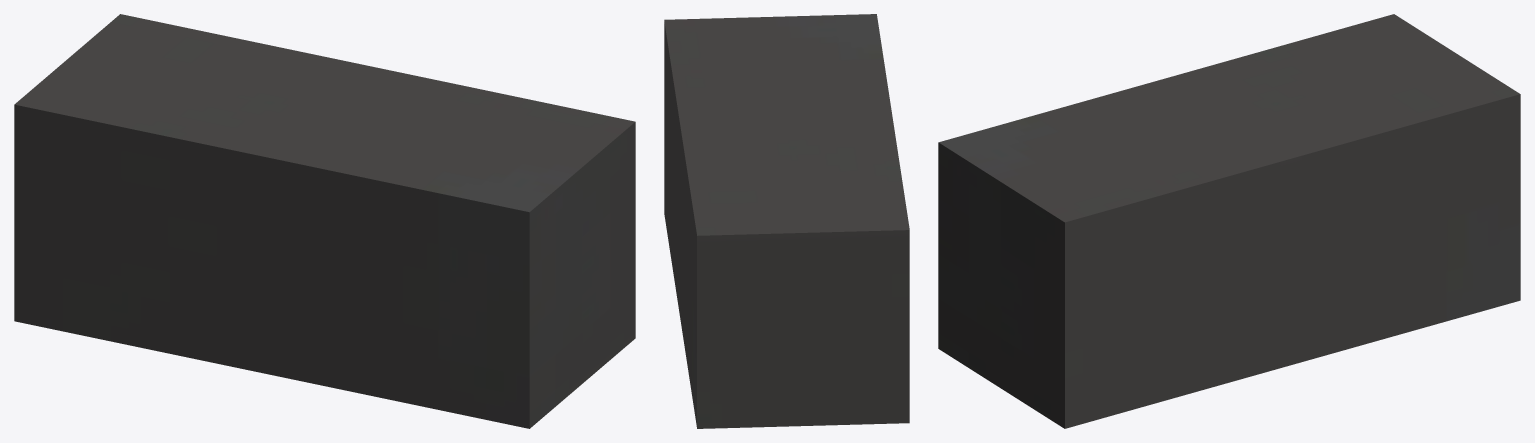
The model's file is main_frame__rear_down_strut.glb.
3 renders of one model, left to right at view 1: azimuth 30°, elevation 25°; view 2: azimuth 150°, elevation 25°; view 3: azimuth 270°, elevation 25°, orthographic. The views are drawn at different scales.
Visible parts, largest first — view 1: world; view 2: world; view 3: world.
Boxes of the visible parts, left/top/right/bottom form: world: left=14, top=14, right=635, bottom=428; world: left=664, top=14, right=909, bottom=428; world: left=938, top=14, right=1520, bottom=428.
Bounding box in the file's own units: 0.1299 × 0.06 × 0.1533.
Materials: 1 (1 with a texture image).
